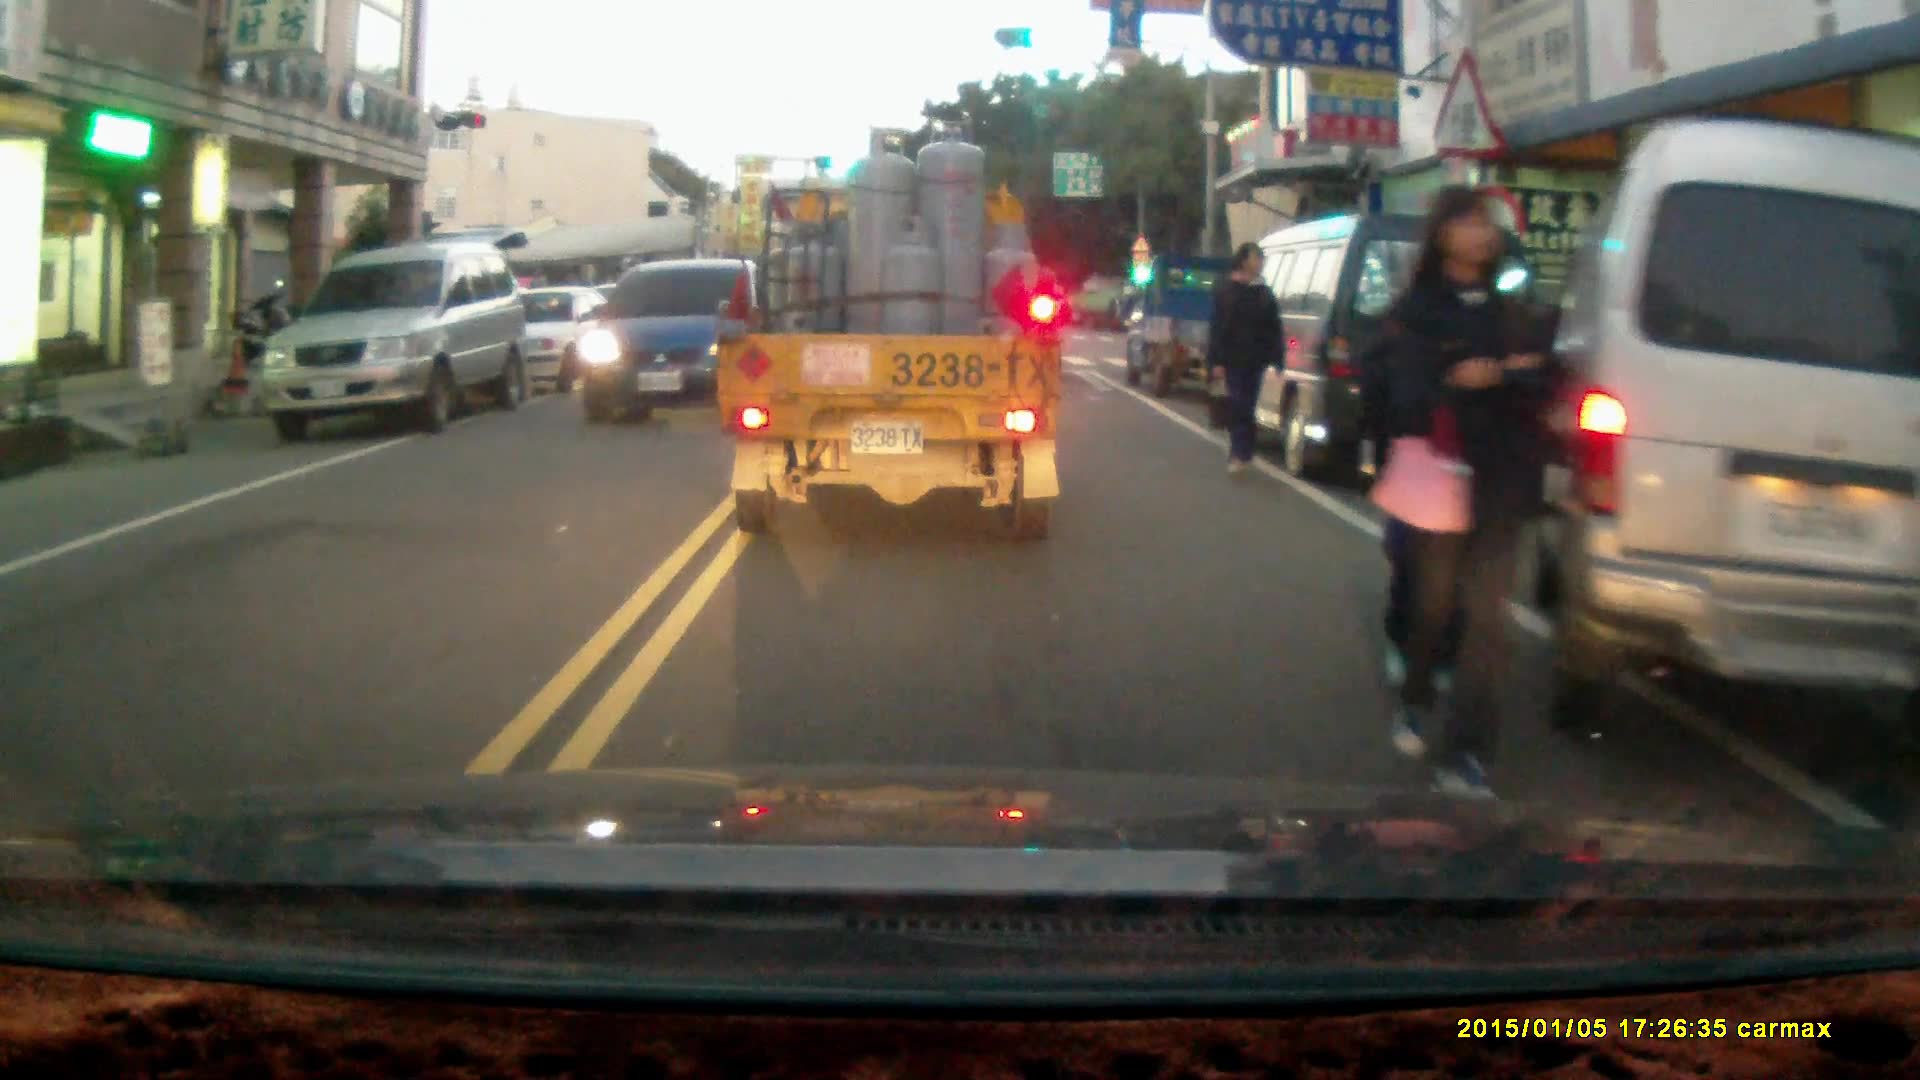pedestrian: (1397, 178, 1575, 794), (1202, 237, 1288, 481)
vehicle: (1536, 111, 1914, 756), (714, 127, 1063, 535), (1212, 209, 1548, 496), (265, 244, 533, 446), (573, 261, 777, 424), (464, 286, 625, 402), (1123, 250, 1244, 399)
